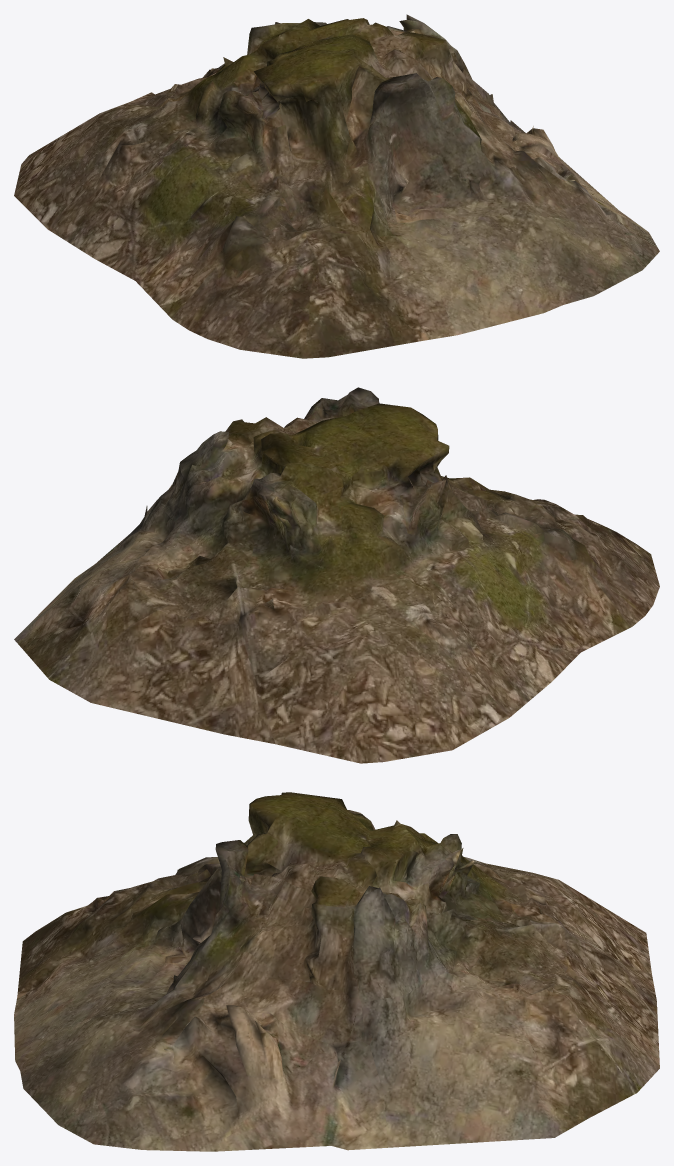
The model's file is tree_stump_01.glb.
3 views of the same model, one above another, from view 1: azimuth 30°, elevation 25°; view 2: azimuth 150°, elevation 25°; view 3: azimuth 270°, elevation 25° (orthographic). The views are drawn at different scales.
Visible parts, largest first — view 1: tree_stump_01; view 2: tree_stump_01; view 3: tree_stump_01.
Boxes of the visible parts, x1,y1,x2,y2 form: tree_stump_01: [14, 14, 659, 358]; tree_stump_01: [14, 387, 659, 763]; tree_stump_01: [14, 792, 659, 1151].
Bounding box in the file's own units: 1.43 × 0.57 × 1.58.
1 material, 1 textured.
